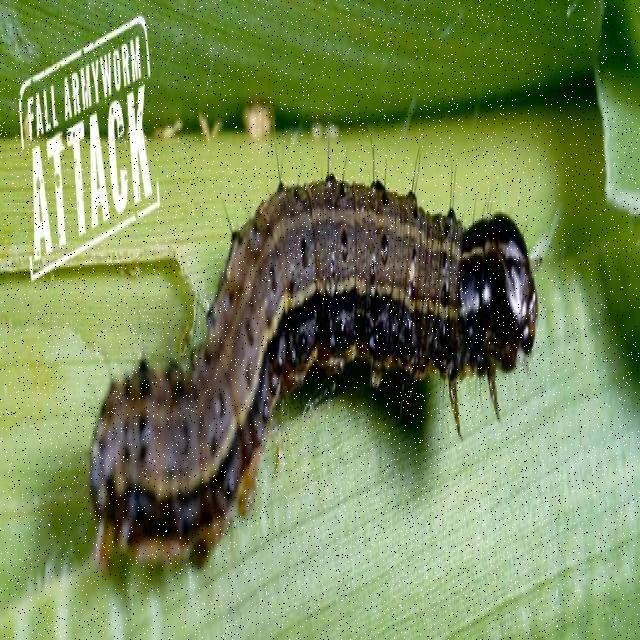army worm: (74, 93, 582, 565)
